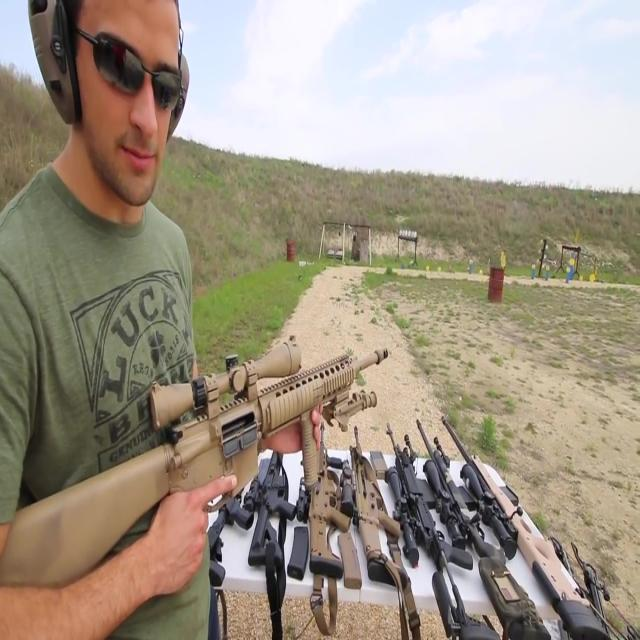Weapon: (0, 308, 419, 618), (160, 372, 622, 640)
